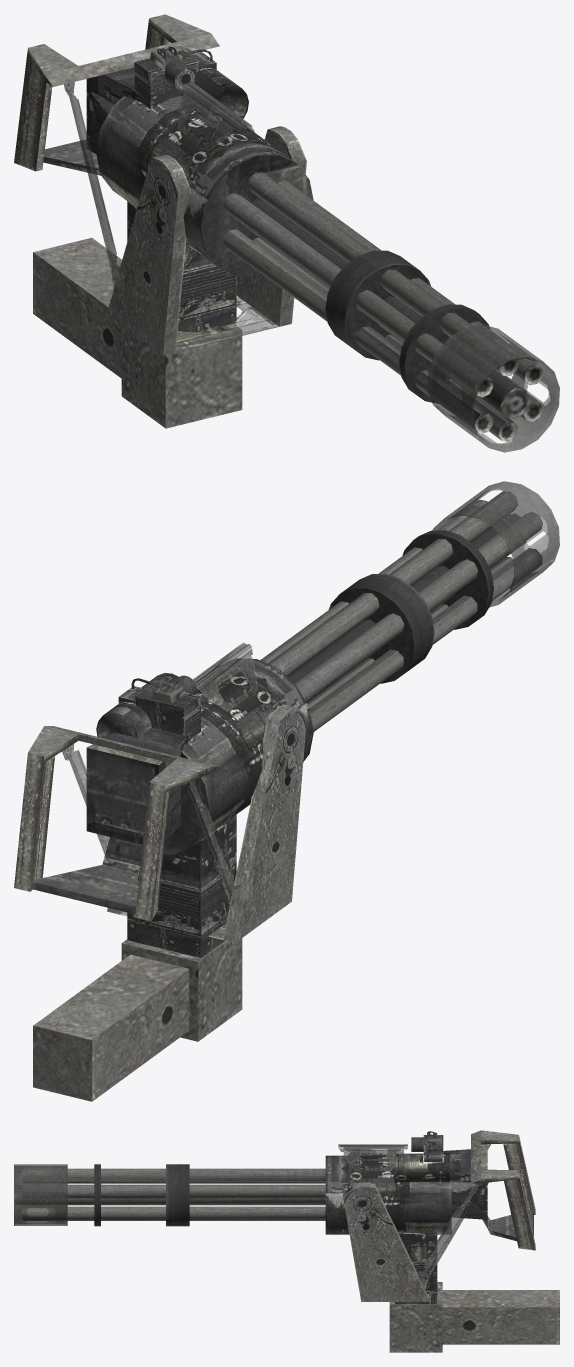
The model's file is minigun.glb.
3 renders of one model, top to bottom at view 1: azimuth 30°, elevation 25°; view 2: azimuth 150°, elevation 25°; view 3: azimuth 270°, elevation 25°, orthographic. The views are drawn at different scales.
Parts seen in each view (by area): view 1: _minigun; view 2: _minigun; view 3: _minigun.
Part boxes in pixels (x1=…): _minigun: x1=14, y1=14, x2=559, y2=452; _minigun: x1=14, y1=481, x2=559, y2=1101; _minigun: x1=14, y1=1130, x2=559, y2=1352.
Bounding box in the file's own units: 0.2835 × 0.5599 × 1.33.
2 materials, 2 textured.
